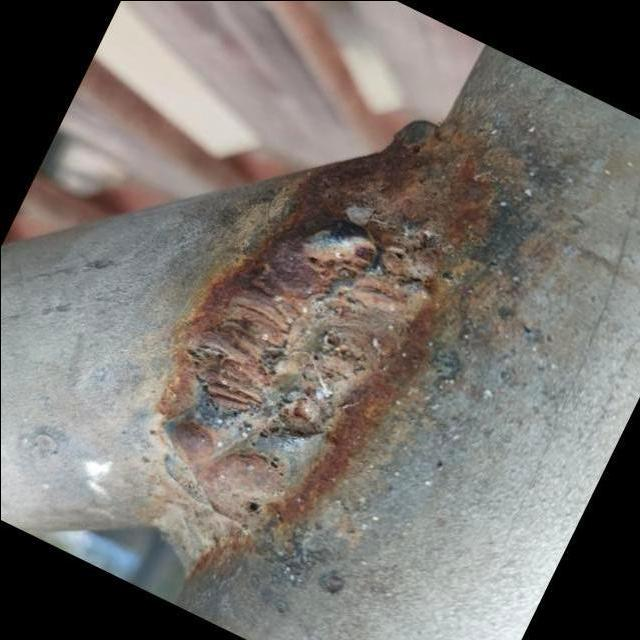defect: (192, 346, 247, 424), (254, 390, 327, 445), (304, 241, 376, 284), (246, 348, 284, 392), (318, 332, 356, 366), (263, 454, 287, 481), (239, 497, 262, 518), (387, 246, 407, 264), (405, 272, 426, 284)
